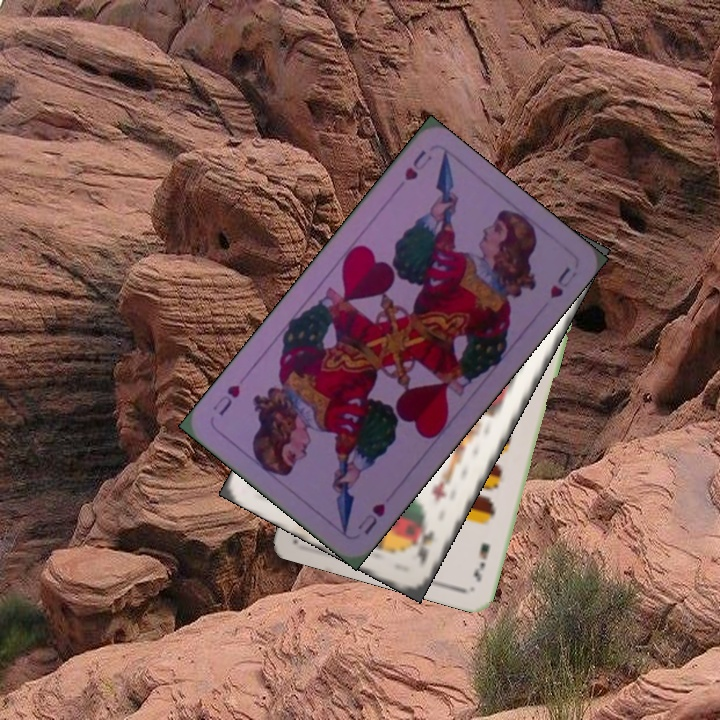E7: (469, 539, 492, 585)
HU: (400, 146, 435, 183), (354, 499, 388, 537)
SK: (412, 527, 438, 570)
